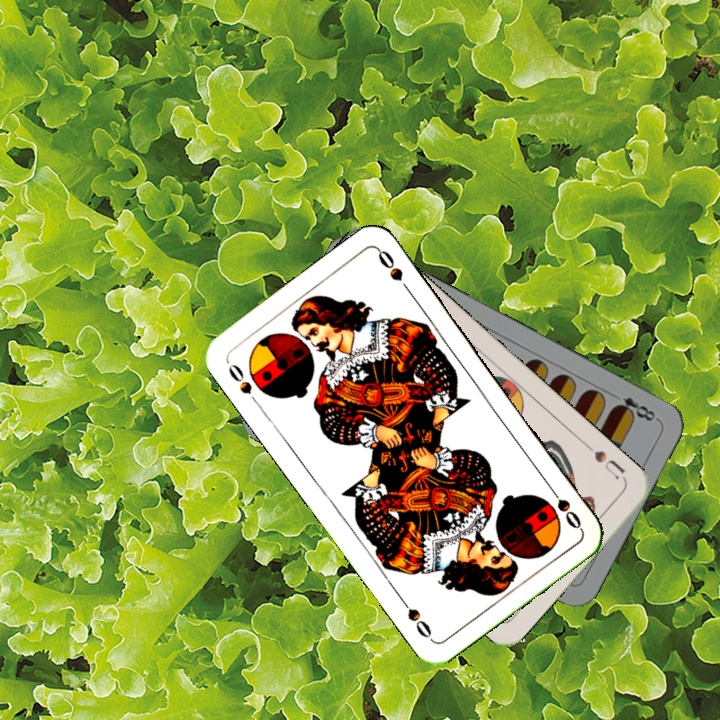E8: (609, 392, 661, 424)
SO: (222, 357, 262, 409), (544, 481, 584, 532)
SU: (581, 440, 628, 482)
